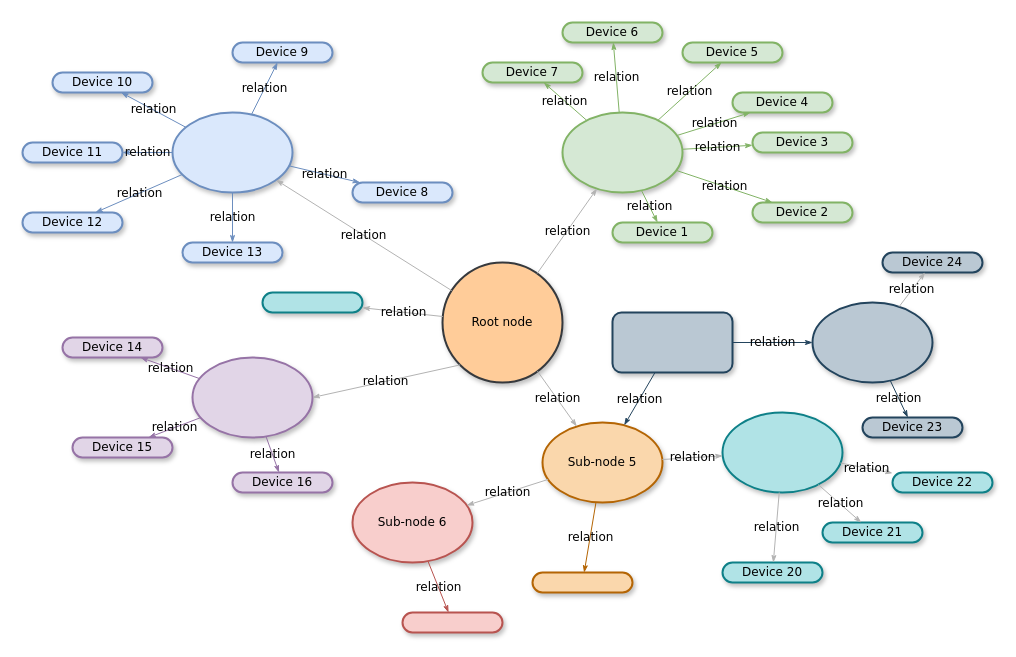
Image size: 1016x657. Some labels were removed from this diagram. The shapes that lost their labels are listed below. From the top down, each one's centre as x and y in pixels, then its label:
At point 233,153: "Sub-node 1".
At point 623,153: "Sub-node 2".
At point 313,303: "Device 17".
At point 673,343: "Process 1".
At point 873,343: "Sub-node 3".
At point 253,398: "Sub-node 7".
At point 783,453: "Sub-node 4".
At point 583,583: "Device 19".
At point 453,623: "Device 18".
